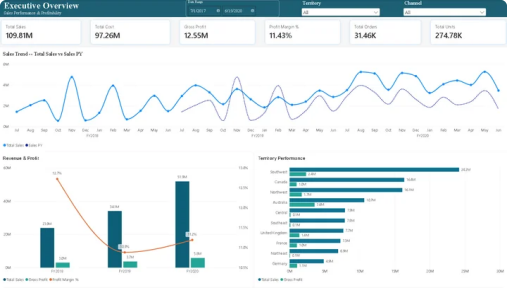

The dashboard page shown, as its layout file describes it:
{"tool":"powerbi","page":{"name":"Executive Overview","canvas":[1920,1080],"ordinal":0},"visuals":[{"type":"cardVisual","fields":{"Data":["__measure.Total Sales"]},"box":[0,64,320,112],"z":0},{"type":"cardVisual","fields":{"Data":["__measure.Gross Profit"]},"box":[672,64,304,112],"z":1000},{"type":"cardVisual","fields":{"Data":["__measure.Profit Margin %"]},"box":[992,64,304,112],"z":2000},{"type":"cardVisual","fields":{"Data":["__measure.Total Orders"]},"box":[1312,64,288,112],"z":3000},{"type":"cardVisual","fields":{"Data":["__measure.Total Units"]},"box":[1616,64,304,112],"z":4000},{"type":"lineChart","title":"Sales Trend -- Total Sales vs Sales PY","fields":{"Category":["gold dim_date.fiscal_year Hierarchy.fiscal_year","gold dim_date.fiscal_year Hierarchy.month_name"],"Y":["__measure.Total Sales","__measure.Sales PY"]},"box":[0,176,1920,400],"z":5000},{"type":"lineClusteredColumnComboChart","title":"Revenue & Profit","fields":{"Category":["gold dim_date.fiscal_year"],"Y":["__measure.Total Sales","__measure.Gross Profit"],"Y2":["__measure.Profit Margin %"]},"box":[0,568,960,512],"z":6000},{"type":"clusteredBarChart","title":"Territory Performance","fields":{"Category":["gold dim_sales_territory.region"],"Y":["__measure.Total Sales","__measure.Gross Profit"]},"box":[960,568,960,512],"z":7000},{"type":"shape","title":"Executive Overview","box":[0,0,1920,64],"z":8000},{"type":"slicer","fields":{"Values":["gold dim_date.date_val"]},"box":[704,0,352,64],"z":9000},{"type":"slicer","fields":{"Values":["gold dim_sales_territory.region"]},"box":[1136,0,304,64],"z":10000},{"type":"slicer","fields":{"Values":["gold fact_sales.channel"]},"box":[1520,0,320,64],"z":11000},{"type":"cardVisual","fields":{"Data":["__measure.Total Cost"]},"box":[336,64,320,112],"z":12000}]}

Visuals, with their boxes in screenshot pixels (x1, y1, x2, y2), scaled from the page's 1920x1080 canvas onto the 507x288 screenshot:
cardVisual - __measure.Total Sales: {"x1": 0, "y1": 17, "x2": 84, "y2": 47}
cardVisual - __measure.Gross Profit: {"x1": 177, "y1": 17, "x2": 258, "y2": 47}
cardVisual - __measure.Profit Margin %: {"x1": 262, "y1": 17, "x2": 342, "y2": 47}
cardVisual - __measure.Total Orders: {"x1": 346, "y1": 17, "x2": 422, "y2": 47}
cardVisual - __measure.Total Units: {"x1": 427, "y1": 17, "x2": 506, "y2": 47}
"Sales Trend -- Total Sales vs Sales PY" lineChart: {"x1": 0, "y1": 47, "x2": 506, "y2": 154}
"Revenue & Profit" lineClusteredColumnComboChart: {"x1": 0, "y1": 151, "x2": 253, "y2": 287}
"Territory Performance" clusteredBarChart: {"x1": 253, "y1": 151, "x2": 506, "y2": 287}
"Executive Overview" shape: {"x1": 0, "y1": 0, "x2": 506, "y2": 17}
slicer - gold dim_date.date_val: {"x1": 186, "y1": 0, "x2": 279, "y2": 17}
slicer - gold dim_sales_territory.region: {"x1": 300, "y1": 0, "x2": 380, "y2": 17}
slicer - gold fact_sales.channel: {"x1": 401, "y1": 0, "x2": 486, "y2": 17}
cardVisual - __measure.Total Cost: {"x1": 89, "y1": 17, "x2": 173, "y2": 47}
